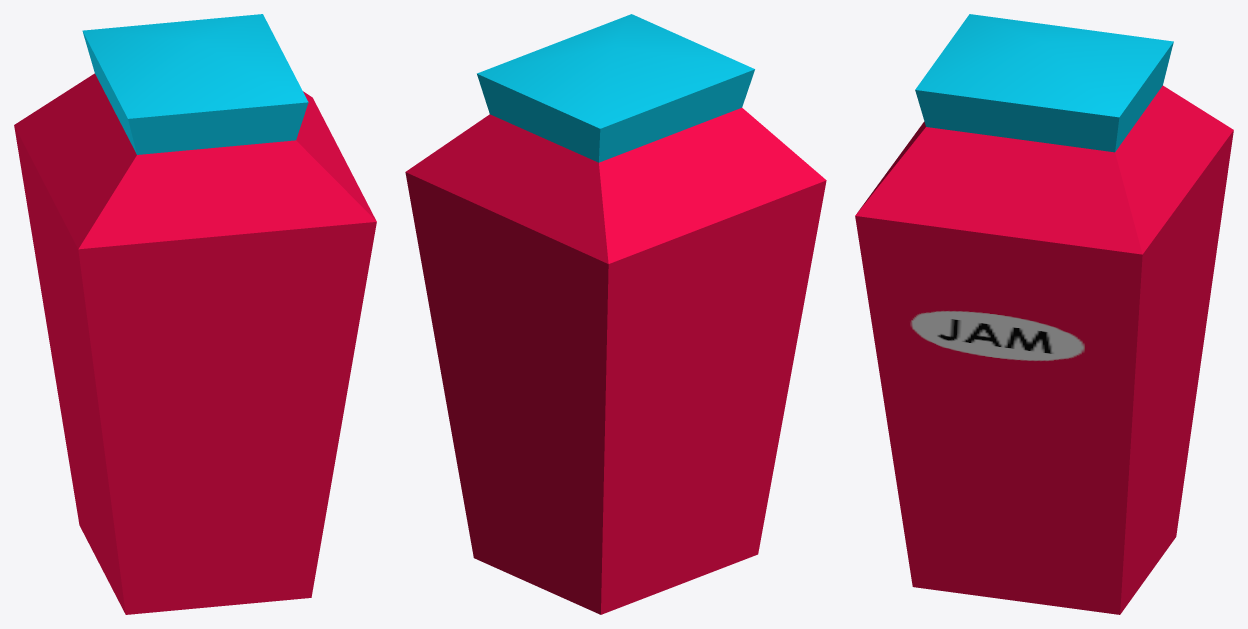
The model's file is Jam.fbx.
3 renders of one model, left to right at view 1: azimuth 30°, elevation 25°; view 2: azimuth 150°, elevation 25°; view 3: azimuth 270°, elevation 25°, orthographic. The views are drawn at different scales.
Visible parts, largest first — view 1: jam:pCylinder3; view 2: jam:pCylinder3; view 3: jam:pCylinder3.
Part boxes in pixels (bbox=[...]): jam:pCylinder3: bbox=[14, 14, 376, 614]; jam:pCylinder3: bbox=[405, 14, 826, 614]; jam:pCylinder3: bbox=[855, 14, 1233, 614].
Size of the model in its own units: 7.98 by 11.97 by 7.86.
